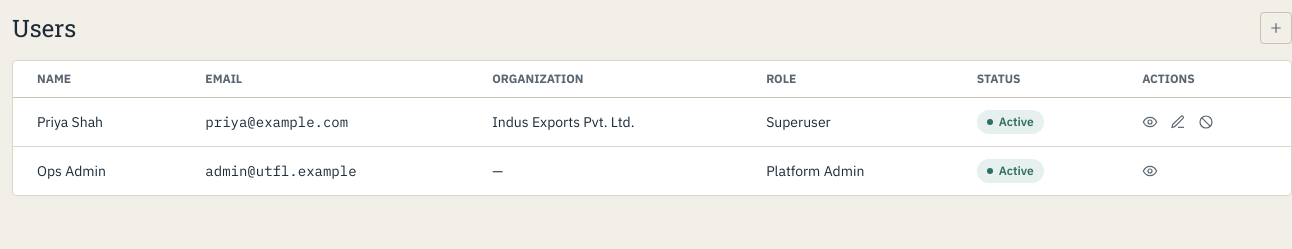
AdminUsersPage › deactivating a user › reverts and shows an error if deactivating fails
Check: the text "Priya Shah" is shown, box [13, 98, 181, 146]
Click the button named "deactivate priya shah" at {"x": 1206, "y": 122}, box [1198, 114, 1214, 130]
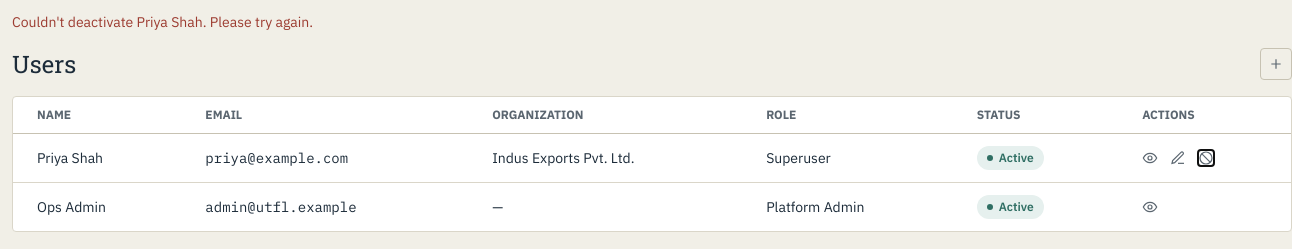
Check: the button named "deactivate priya shah" is shown, box [1198, 150, 1214, 166]
Check: the text "Couldn't deactivate Priya Shah. Please try again." is shown, box [12, 13, 313, 31]
